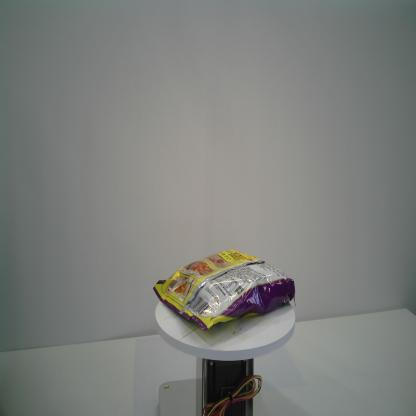Instant Noodles: (152, 247, 298, 334)
